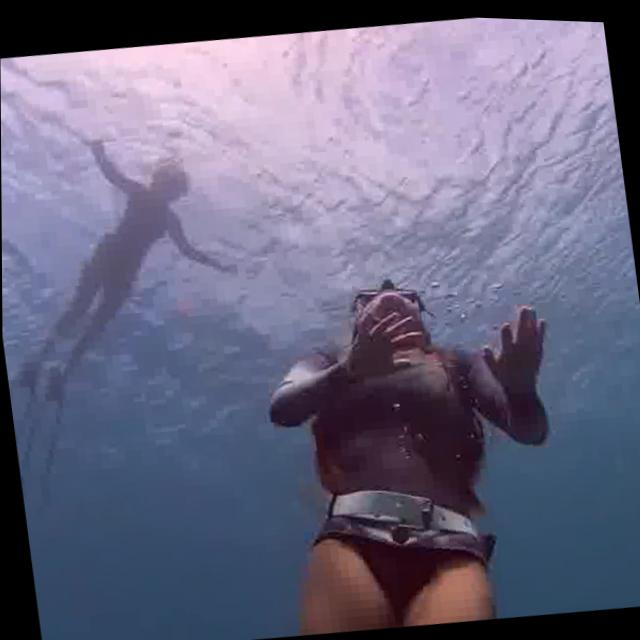human: (235, 234, 602, 640), (1, 110, 251, 402)
